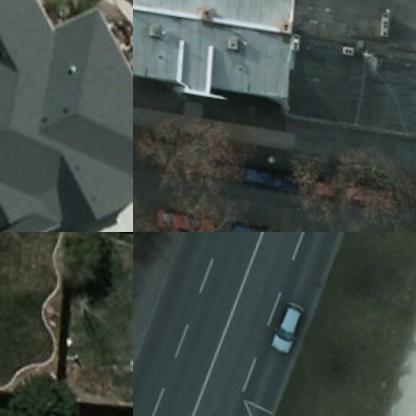car: (260, 300, 302, 358), (336, 178, 395, 212), (234, 170, 294, 200), (142, 205, 210, 231), (217, 219, 272, 231)
